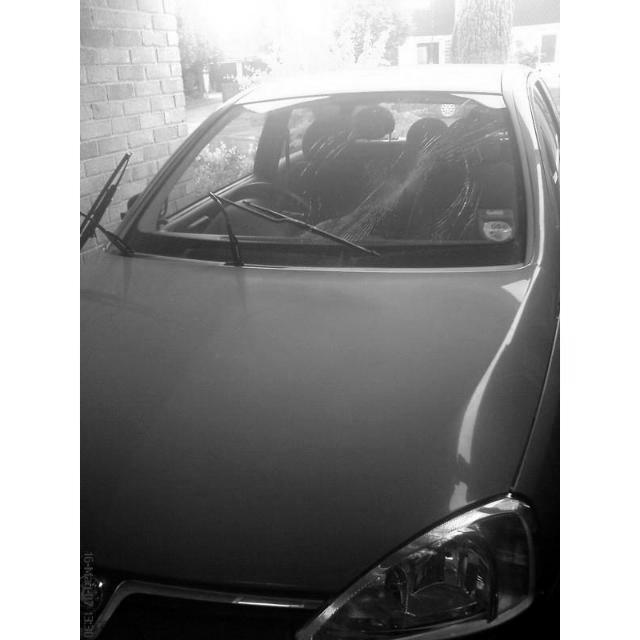Front-windscreen-damage: (170, 112, 502, 248)
